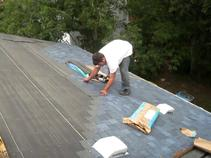crouch: (83, 51, 112, 87)
sit: (83, 51, 112, 87)
